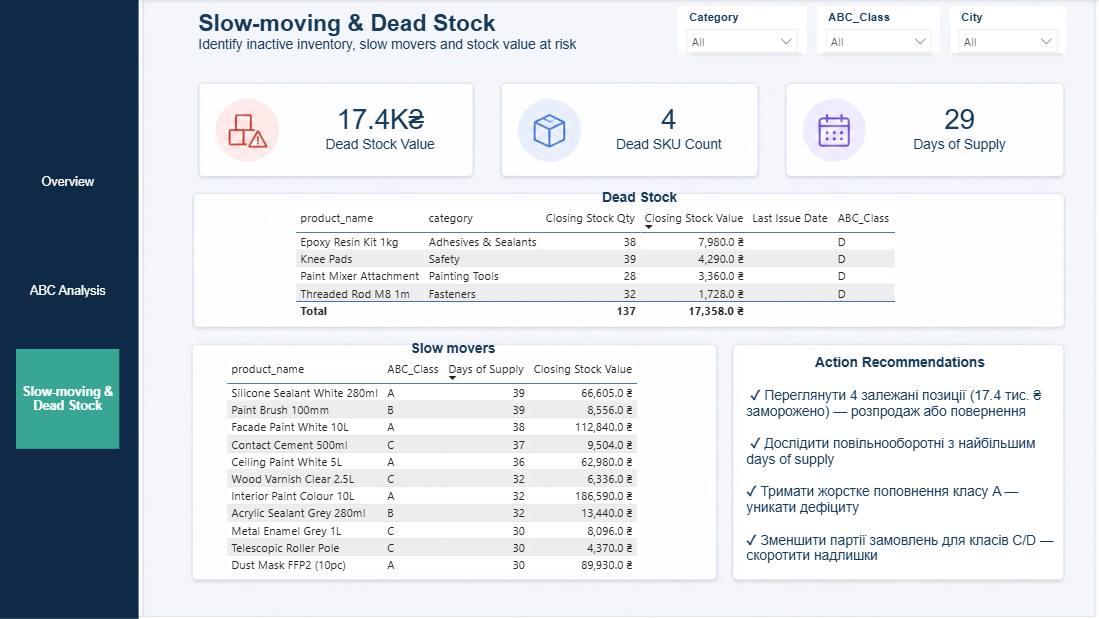

What the dashboard file says about the page in this screenshot:
{"tool":"powerbi","page":{"name":"Slow-moving & Dead Stock","canvas":[1280,720],"ordinal":2},"visuals":[{"type":"cardVisual","fields":{"Data":["My_measures.Dead Stock Value"]},"box":[338,98.7,207.9,103.4],"z":0},{"type":"cardVisual","fields":{"Data":["My_measures.Dead SKU Count"]},"box":[678.3,98.7,197.5,103.4],"z":1000},{"type":"cardVisual","fields":{"Data":["My_measures.Days of Supply"]},"box":[1024.5,98.7,180,103.4],"z":2000},{"type":"tableEx","title":"Dead Stock","fields":{"Values":["Products.product_name","Products.category","My_measures.Closing Stock Qty","My_measures.Closing Stock Value","My_measures.Last Issue Date","Products.ABC_Class"]},"box":[338,221.9,809.6,158],"z":3000},{"type":"tableEx","title":"Slow movers","fields":{"Values":["Products.product_name","Products.ABC_Class","My_measures.Days of Supply","My_measures.Closing Stock Value"]},"box":[257.9,397.2,536.6,274.1],"z":4000},{"type":"slicer","fields":{"Values":["Products.category"]},"box":[787.5,8.1,148.7,54.6],"z":5000},{"type":"slicer","fields":{"Values":["Products.ABC_Class"]},"box":[949,8.1,142.9,54.6],"z":6000},{"type":"slicer","fields":{"Values":["Warehouses.city"]},"box":[1103.4,8.1,134.7,54.6],"z":7000},{"type":"shape","box":[0,0,161.5,720.1],"z":8000},{"type":"pageNavigator","box":[18.6,154.5,120.8,370.5],"z":9000},{"type":"textbox","box":[861.9,408.9,367,262.5],"z":10000},{"type":"textbox","box":[225.3,8.1,518,65],"z":11000}]}

Visuals, with their boxes in screenshot pixels (x1, y1, x2, y2), scaled from the page's 1280x720 canvas onto the 1099x619 screenshot:
cardVisual - My_measures.Dead Stock Value: region(290, 85, 469, 174)
cardVisual - My_measures.Dead SKU Count: region(582, 85, 752, 174)
cardVisual - My_measures.Days of Supply: region(880, 85, 1034, 174)
"Dead Stock" tableEx: region(290, 191, 985, 327)
"Slow movers" tableEx: region(221, 341, 682, 577)
slicer - Products.category: region(676, 7, 804, 54)
slicer - Products.ABC_Class: region(815, 7, 937, 54)
slicer - Warehouses.city: region(947, 7, 1063, 54)
shape: region(0, 0, 139, 618)
pageNavigator: region(16, 133, 120, 451)
textbox: region(740, 352, 1055, 577)
textbox: region(193, 7, 638, 63)
